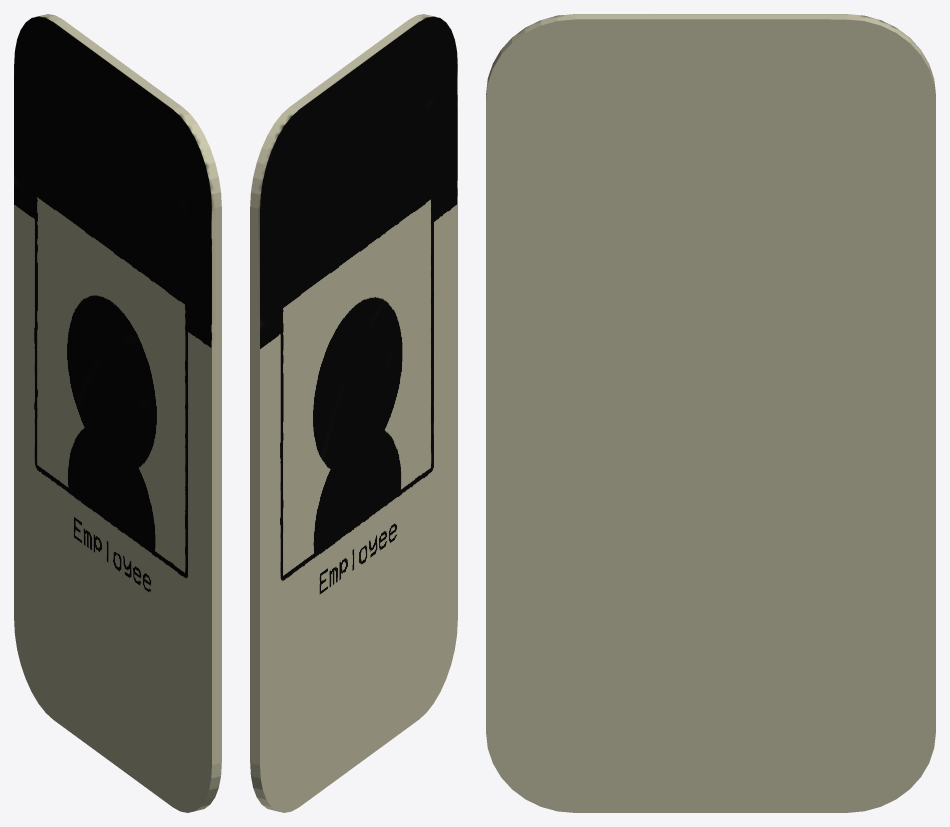
Rendered from card model.fbx.
The picture shows the model from 3 angles, left to right: view 1: azimuth 30°, elevation 25°; view 2: azimuth 150°, elevation 25°; view 3: azimuth 270°, elevation 25°; orthographic projection. The views are drawn at different scales.
Parts seen in each view (by area): view 1: Cylinder; view 2: Cylinder; view 3: Cylinder.
Part boxes in pixels (x1=…): Cylinder: x1=14, y1=14, x2=221, y2=812; Cylinder: x1=250, y1=14, x2=457, y2=812; Cylinder: x1=486, y1=14, x2=935, y2=812.
Size of the model in its own units: 14.51 by 986 by 506.
